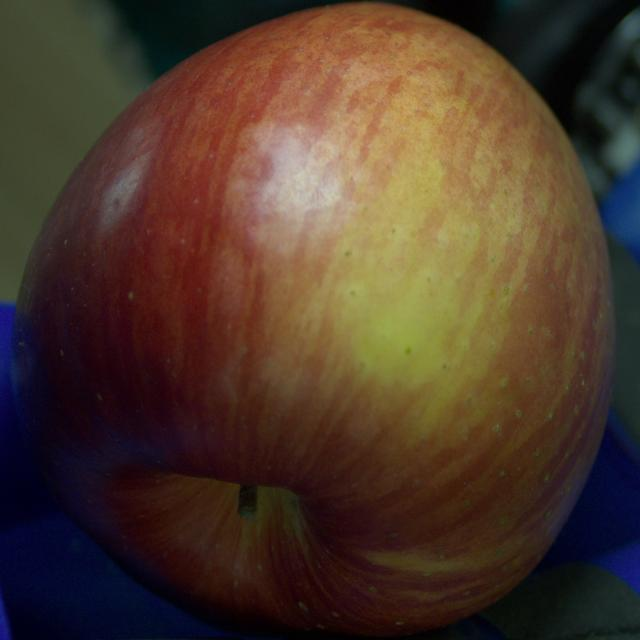apple: (11, 4, 614, 636)
